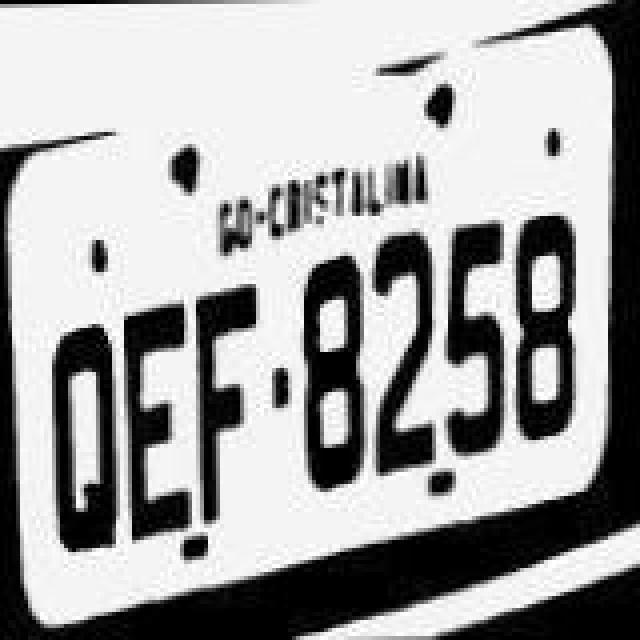2: (378, 228, 454, 480)
5: (450, 224, 526, 460)
8: (518, 212, 594, 452), (298, 250, 374, 486)
E: (124, 292, 200, 536)
F: (204, 272, 272, 532)
Q: (48, 306, 124, 558)
